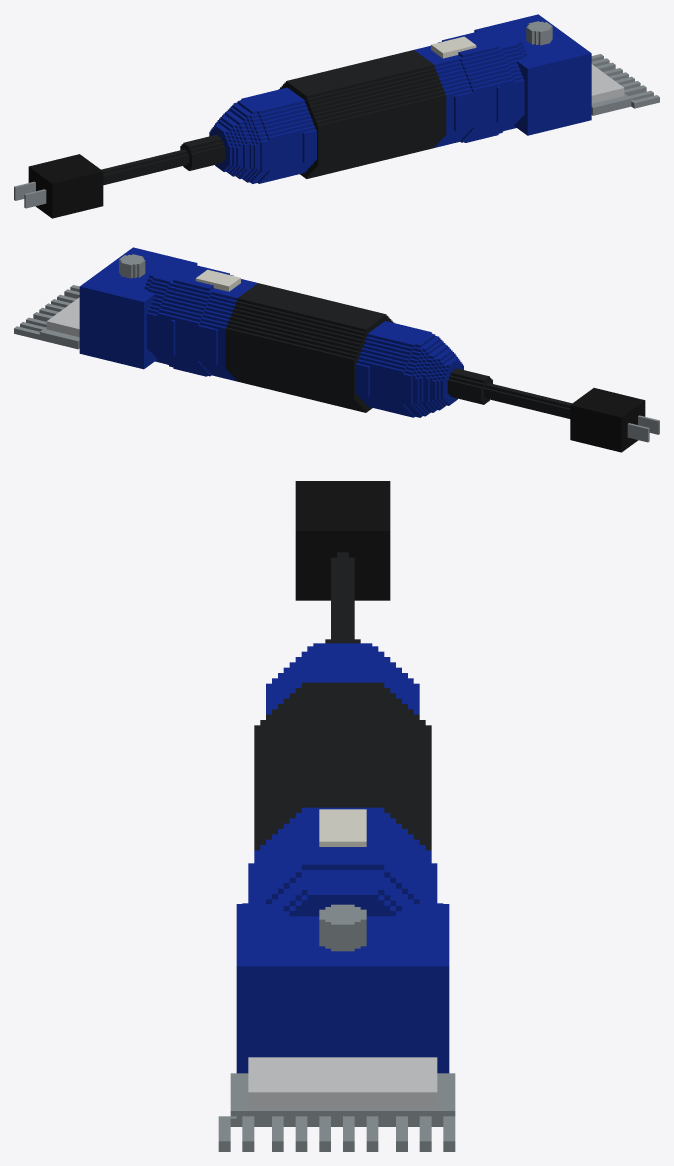
The model's file is elec_shears.glb.
The picture shows the model from 3 angles, top to bottom: view 1: azimuth 30°, elevation 25°; view 2: azimuth 150°, elevation 25°; view 3: azimuth 270°, elevation 25°; orthographic projection. The views are drawn at different scales.
Visible parts, largest first — view 1: elec_shears:compound; view 2: elec_shears:compound; view 3: elec_shears:compound.
Part boxes in pixels (x1,y1,x2,y2): elec_shears:compound: [14, 14, 659, 218]; elec_shears:compound: [14, 247, 659, 452]; elec_shears:compound: [218, 481, 455, 1151].
Size of the model in its own units: 0.476 by 0.068 by 0.08.
